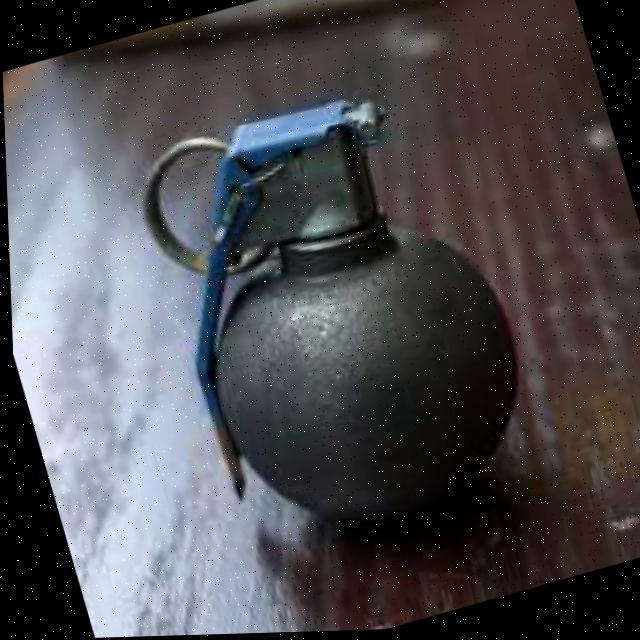grenade: (106, 41, 578, 589)
